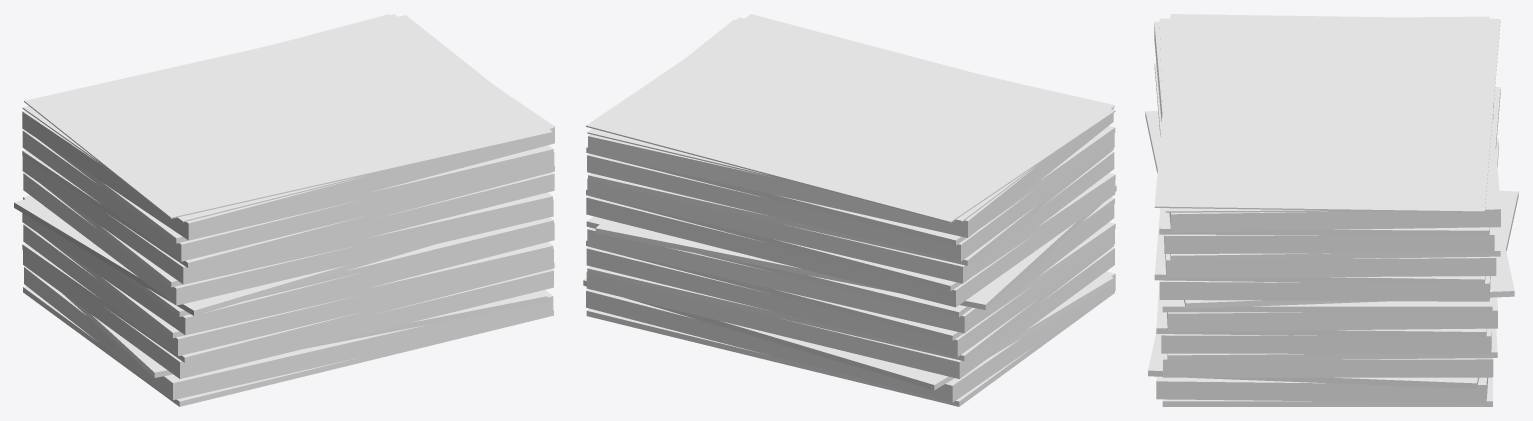
Rendered from PaperStack_01.glb.
3 renders of one model, left to right at view 1: azimuth 30°, elevation 25°; view 2: azimuth 150°, elevation 25°; view 3: azimuth 270°, elevation 25°, orthographic. The views are drawn at different scales.
Parts seen in each view (by area): view 1: Mesh_PaperStack_01; view 2: Mesh_PaperStack_01; view 3: Mesh_PaperStack_01.
Part boxes in pixels (box(x1,y1,x2,y2)): Mesh_PaperStack_01: box(14, 14, 554, 406); Mesh_PaperStack_01: box(583, 14, 1116, 406); Mesh_PaperStack_01: box(1145, 14, 1518, 406).
Bounding box in the file's own units: 0.3123 × 0.1388 × 0.2373.
1 material, 1 textured.
